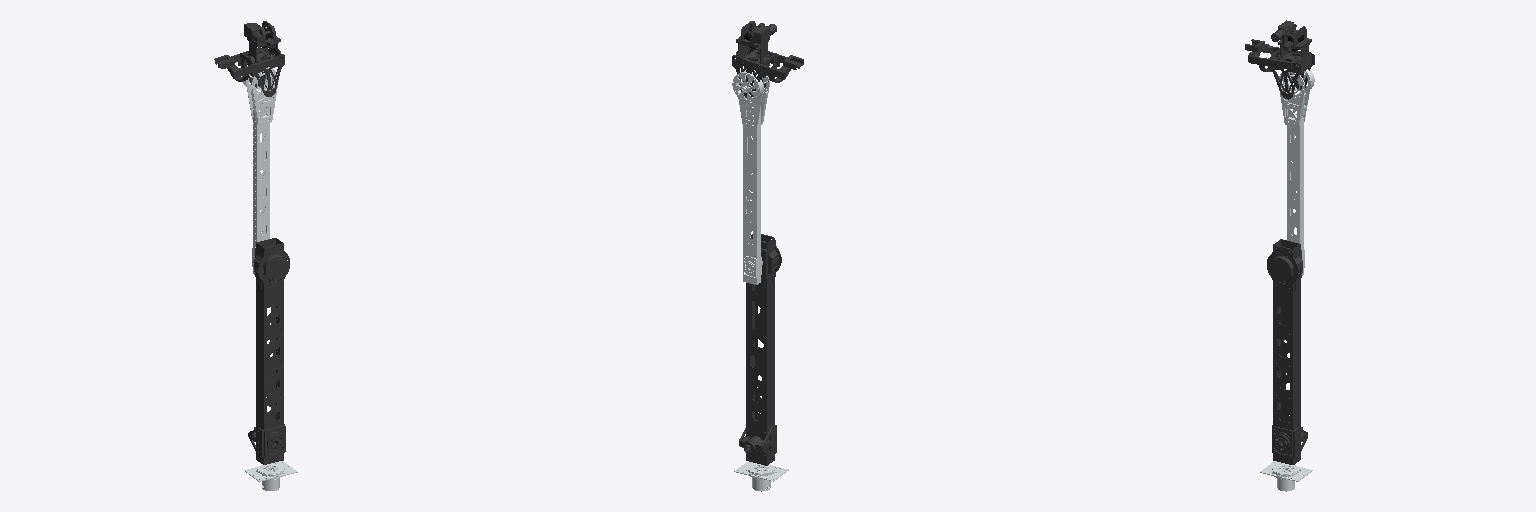
The robot description file, URDF, robot "质修R2仿制电科云台机械臂666URDF":
<?xml version="1.0" encoding="utf-8"?>
<!-- This URDF was automatically created by SolidWorks to URDF Exporter! Originally created by Stephen Brawner (brawner@gmail.com) 
     Commit Version: 1.6.0-4-g7f85cfe  Build Version: 1.6.7995.38578
     For more information, please see http://wiki.ros.org/sw_urdf_exporter -->
<robot
  name="质修R2仿制电科云台机械臂666URDF">
    <ros2_control name="arm_hw" type="system">
    <hardware>
      <plugin>mujoco_ros2_control/MujocoSystem</plugin>
    </hardware>

    <joint name="joint1">
      <command_interface name="effort"/>
      <state_interface name="position"/>
      <state_interface name="velocity"/>
      <state_interface name="effort"/>
    </joint>

    <joint name="joint2">
      <command_interface name="effort"/>
      <state_interface name="position"/>
      <state_interface name="velocity"/>
      <state_interface name="effort"/>
    </joint>

    <joint name="joint3">
      <command_interface name="effort"/>
      <state_interface name="position"/>
      <state_interface name="velocity"/>
      <state_interface name="effort"/>
    </joint>

    <joint name="joint4">
      <command_interface name="effort"/>
      <state_interface name="position"/>
      <state_interface name="velocity"/>
      <state_interface name="effort"/>
    </joint>

    <joint name="joint5">
      <command_interface name="effort"/>
      <state_interface name="position"/>
      <state_interface name="velocity"/>
      <state_interface name="effort"/>
    </joint>

    <joint name="joint6">
      <command_interface name="effort"/>
      <state_interface name="position"/>
      <state_interface name="velocity"/>
      <state_interface name="effort"/>
    </joint>
  </ros2_control>
  <link name="world"/>
   <joint name="world_to_base" type="fixed">
     <parent link="world"/>
     <child link="base_link"/>
     <origin xyz="0 0 0" rpy="0 0 0"/>
   </joint>
  <link
    name="base_link">
    <inertial>
      <origin
        xyz="-0.00314477810784158 6.07502628329482E-05 0.0309288884499073"
        rpy="0 0 0" />
      <mass
        value="1.0608896790749" />
      <inertia
        ixx="0.00136348954613313"
        ixy="1.09519148431788E-06"
        ixz="-5.43320405230057E-07"
        iyy="0.00173058869239426"
        iyz="2.26094630333631E-07"
        izz="0.00302869715684903" />
    </inertial>
    <visual>
      <origin
        xyz="0 0 0"
        rpy="0 0 0" />
      <geometry>
        <mesh
          filename="package://arm/model/base_link.STL" />
      </geometry>
      <material
        name="">
        <color
          rgba="0.898039215686275 0.917647058823529 0.929411764705882 1" />
      </material>
    </visual>
    <collision>
      <origin
        xyz="0 0 0"
        rpy="0 0 0" />
      <geometry>
        <mesh
          filename="package://arm/model/base_link.STL" />
      </geometry>
    </collision>
  </link>
  <link
    name="Link1">
    <inertial>
      <origin
        xyz="-4.33801167989273E-06 -0.0337129934218405 0.0693888972185664"
        rpy="0 0 0" />
      <mass
        value="1.3415964916658" />
      <inertia
        ixx="0.00104703767087083"
        ixy="-6.13527281147485E-07"
        ixz="1.1397456426102E-05"
        iyy="0.00166971689932541"
        iyz="-2.32711829794906E-06"
        izz="0.00125544090285874" />
    </inertial>
    <visual>
      <origin
        xyz="0 0 0"
        rpy="0 0 0" />
      <geometry>
        <mesh
          filename="package://arm/model/Link1.STL" />
      </geometry>
      <material
        name="">
        <color
          rgba="0.294117647058824 0.294117647058824 0.294117647058824 1" />
      </material>
    </visual>
    <collision>
      <origin
        xyz="0 0 0"
        rpy="0 0 0" />
      <geometry>
        <mesh
          filename="package://arm/model/Link1.STL" />
      </geometry>
    </collision>
  </link>
  <joint
    name="joint1"
    type="revolute">
    <origin
      xyz="0 0 0.04875"
      rpy="0 0 0" />
    <parent
      link="base_link" />
    <child
      link="Link1" />
    <axis
      xyz="0 0 -1" />
    <limit
      lower="-2.1"
      upper="2.1"
      effort="50"
      velocity="10" />
  </joint>
  <link
    name="Link2">
    <inertial>
      <origin
        xyz="0.365853216628188 -0.000167570867919797 0.0278793123516113"
        rpy="0 0 0" />
      <mass
        value="1.1688360536306" />
      <inertia
        ixx="0.000605176798012729"
        ixy="5.97640808836259E-07"
        ixz="-6.65219351214428E-05"
        iyy="0.0101407081904813"
        iyz="-1.35057504964255E-06"
        izz="0.0104820269965559" />
    </inertial>
    <visual>
      <origin
        xyz="0 0 0"
        rpy="0 0 0" />
      <geometry>
        <mesh
          filename="package://arm/model/Link2.STL" />
      </geometry>
      <material
        name="">
        <color
          rgba="0.294117647058824 0.294117647058824 0.294117647058824 1" />
      </material>
    </visual>
    <collision>
      <origin
        xyz="0 0 0"
        rpy="0 0 0" />
      <geometry>
        <mesh
          filename="package://arm/model/Link2.STL" />
      </geometry>
    </collision>
  </link>
  <joint
    name="joint2"
    type="revolute">
    <origin
      xyz="0 -0.02575 0.08875"
      rpy="-1.5708 -1.5708 0" />
    <parent
      link="Link1" />
    <child
      link="Link2" />
    <axis
      xyz="0 0 -1" />
    <limit
      lower="-1.57"
      upper="1.57"
      effort="50"
      velocity="10" />
  </joint>
  <link
    name="Link3">
    <inertial>
      <origin
        xyz="0.387625948144578 0.000578440683585479 0.0275474663113074"
        rpy="0 0 0" />
      <mass
        value="0.697933163337346" />
      <inertia
        ixx="0.000283268094638963"
        ixy="1.82230790247392E-06"
        ixz="-3.36290808401328E-06"
        iyy="0.00327137348888359"
        iyz="1.48813554147957E-06"
        izz="0.00350366691281038" />
    </inertial>
    <visual>
      <origin
        xyz="0 0 0"
        rpy="0 0 0" />
      <geometry>
        <mesh
          filename="package://arm/model/Link3.STL" />
      </geometry>
      <material
        name="">
        <color
          rgba="0.898039215686275 0.917647058823529 0.929411764705882 1" />
      </material>
    </visual>
    <collision>
      <origin
        xyz="0 0 0"
        rpy="0 0 0" />
      <geometry>
        <mesh
          filename="package://arm/model/Link3.STL" />
      </geometry>
    </collision>
  </link>
  <joint
    name="joint3"
    type="revolute">
    <origin
      xyz="0.5 0 0.044"
      rpy="0 0 0" />
    <parent
      link="Link2" />
    <child
      link="Link3" />
    <axis
      xyz="0 0 1" />
    <limit
      lower="-2.9"
      upper="2.9"
      effort="50"
      velocity="10" />
  </joint>
  <link
    name="Link4">
    <inertial>
      <origin
        xyz="0.070676368899276 -0.0400413645185225 -0.0239463858952916"
        rpy="0 0 0" />
      <mass
        value="0.37892648177412" />
      <inertia
        ixx="0.000174029918781671"
        ixy="5.18282255506871E-06"
        ixz="-6.09003216159317E-08"
        iyy="0.000191074267942647"
        iyz="-2.79403838333222E-07"
        izz="0.000202618171796121" />
    </inertial>
    <visual>
      <origin
        xyz="0 0 0"
        rpy="0 0 0" />
      <geometry>
        <mesh
          filename="package://arm/model/Link4.STL" />
      </geometry>
      <material
        name="">
        <color
          rgba="0.294117647058824 0.294117647058824 0.294117647058824 1" />
      </material>
    </visual>
    <collision>
      <origin
        xyz="0 0 0"
        rpy="0 0 0" />
      <geometry>
        <mesh
          filename="package://arm/model/Link4.STL" />
      </geometry>
    </collision>
  </link>
  <joint
    name="joint4"
    type="revolute">
    <origin
      xyz="0.49464 0 0.04645"
      rpy="0 0 0" />
    <parent
      link="Link3" />
    <child
      link="Link4" />
    <axis
      xyz="0 0 -1" />
    <limit
      lower="-2"
      upper="2"
      effort="50"
      velocity="10" />
  </joint>
  <link
    name="Link5">
    <inertial>
      <origin
        xyz="0.0451968277403802 -7.88179412723744E-06 0.0419533410672925"
        rpy="0 0 0" />
      <mass
        value="0.112337074738347" />
      <inertia
        ixx="2.52285225497034E-05"
        ixy="-5.91425386067044E-10"
        ixz="-1.35065360622416E-13"
        iyy="2.87650929013733E-05"
        iyz="1.31696157156535E-08"
        izz="3.6214455173519E-05" />
    </inertial>
    <visual>
      <origin
        xyz="0 0 0"
        rpy="0 0 0" />
      <geometry>
        <mesh
          filename="package://arm/model/Link5.STL" />
      </geometry>
      <material
        name="">
        <color
          rgba="0.294117647058824 0.294117647058824 0.294117647058824 1" />
      </material>
    </visual>
    <collision>
      <origin
        xyz="0 0 0"
        rpy="0 0 0" />
      <geometry>
        <mesh
          filename="package://arm/model/Link5.STL" />
      </geometry>
    </collision>
  </link>
  <joint
    name="joint5"
    type="revolute">
    <origin
      xyz="0.076 -0.044 -0.02455"
      rpy="-1.5708 0 0" />
    <parent
      link="Link4" />
    <child
      link="Link5" />
    <axis
      xyz="0 0 -1" />
    <limit
      lower="-0.4"
      upper="0.4"
      effort="50"
      velocity="10" />
  </joint>
  <link
    name="Link6">
    <inertial>
      <origin
        xyz="-1.11022302462516E-16 7.49400541621981E-16 0.0373009014980973"
        rpy="0 0 0" />
      <mass
        value="0.150213928644986" />
      <inertia
        ixx="7.59512548879522E-05"
        ixy="-2.96461531539005E-21"
        ixz="3.3881317890172E-21"
        iyy="7.59512548879522E-05"
        iyz="-1.21760986167806E-20"
        izz="0.00011238690149753" />
    </inertial>
    <visual>
      <origin
        xyz="0 0 0"
        rpy="0 0 0" />
      <geometry>
        <mesh
          filename="package://arm/model/Link6.STL" />
      </geometry>
      <material
        name="">
        <color
          rgba="0.113725490196078 0.113725490196078 0.113725490196078 1" />
      </material>
    </visual>
    <collision>
      <origin
        xyz="0 0 0"
        rpy="0 0 0" />
      <geometry>
        <mesh
          filename="package://arm/model/Link6.STL" />
      </geometry>
    </collision>
  </link>
  <joint
    name="joint6"
    type="revolute">
    <origin
      xyz="0.055 0 0.04675"
      rpy="-1.333 1.5708 -1.4022" />
    <parent
      link="Link5" />
    <child
      link="Link6" />
    <axis
      xyz="0 0 1" />
    <limit
      lower="0"
      upper="0"
      effort="50"
      velocity="10" />
  </joint>
</robot>

--- What the picture shows (computed from the rendered views, not written in the file) ---
3 views of the same robot in one strip: view 1: azimuth 30°, elevation 25°; view 2: azimuth 150°, elevation 25°; view 3: azimuth 330°, elevation 25° (orthographic).
Model 质修R2仿制电科云台机械臂666URDF with 8 links and 7 joints (6 revolute, 1 fixed), rooted at world, posed all joints at 0.
Links seen in each view (by area): view 1: Link2, Link3, Link4, Link5, base_link; view 2: Link2, Link3, Link4, Link5, base_link; view 3: Link2, Link3, Link4, Link5, base_link.
Link boxes in pixels (x1=…): Link2: x1=248, y1=238, x2=289, y2=464; Link3: x1=242, y1=66, x2=278, y2=274; Link4: x1=214, y1=46, x2=284, y2=96; Link5: x1=244, y1=21, x2=280, y2=65; base_link: x1=244, y1=461, x2=297, y2=490; Link2: x1=739, y1=234, x2=781, y2=465; Link3: x1=732, y1=69, x2=769, y2=284; Link4: x1=732, y1=46, x2=803, y2=97; Link5: x1=736, y1=21, x2=776, y2=66; base_link: x1=734, y1=461, x2=788, y2=491; Link2: x1=1267, y1=239, x2=1307, y2=464; Link3: x1=1278, y1=66, x2=1314, y2=275; Link4: x1=1245, y1=39, x2=1314, y2=99; Link5: x1=1271, y1=20, x2=1311, y2=59; base_link: x1=1260, y1=461, x2=1312, y2=491.
Size in the robot's own frame: 0.1923 by 0.1334 by 1.3 metres.
6 mesh visuals loaded from 7 distinct referenced files (6 binary STL); not drawn: 1 (reference not matched to a file when rendering).
